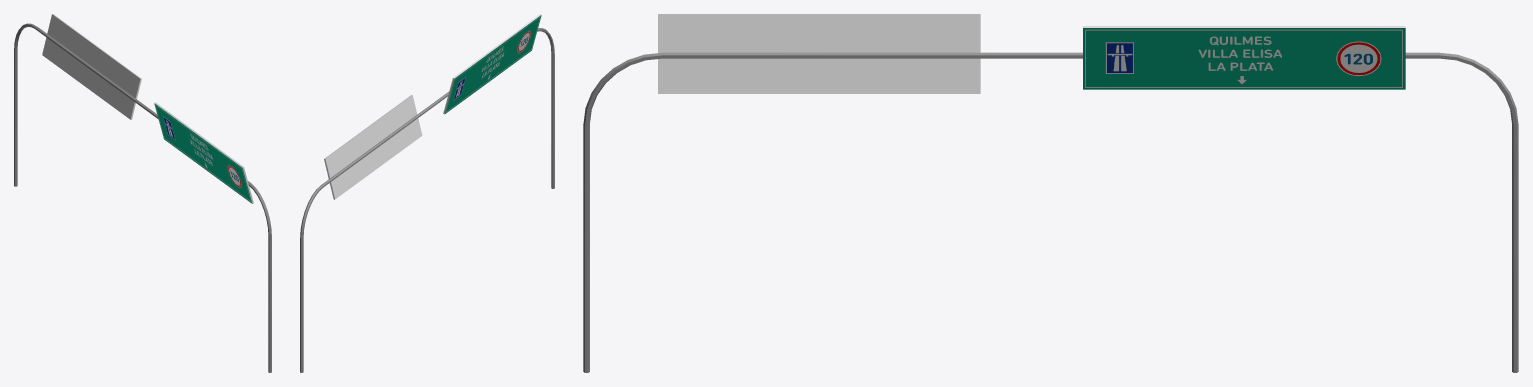
Rendered from CartelLP.FBX.
3 renders of one model, left to right at view 1: azimuth 30°, elevation 25°; view 2: azimuth 150°, elevation 25°; view 3: azimuth 270°, elevation 25°, orthographic. The views are drawn at different scales.
Parts seen in each view (by area): view 1: Box034, Box033, Rectangle006; view 2: Box034, Box033, Rectangle006; view 3: Box033, Box034, Rectangle006.
Part boxes in pixels (<box>): Box034: <box>42,14,141,119</box>; Box033: <box>154,102,253,203</box>; Rectangle006: <box>14,23,271,372</box>; Box034: <box>324,95,422,199</box>; Box033: <box>443,14,541,114</box>; Rectangle006: <box>300,28,554,372</box>; Box033: <box>658,14,980,93</box>; Box034: <box>1083,26,1405,89</box>; Rectangle006: <box>583,52,1518,372</box>.
Size of the model in its own units: 1.03 by 12.02 by 28.98.
3 materials, 1 textured.
